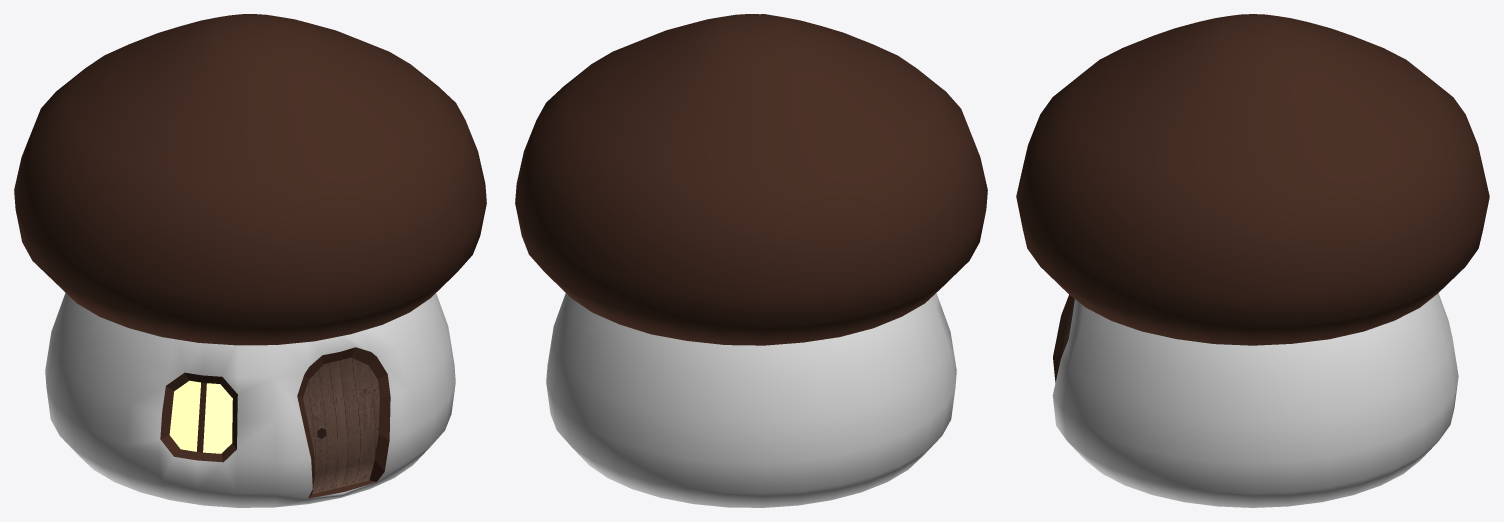
Rendered from brownSmallMushroomHouse.glb.
3 views of the same model, side by side, from view 1: azimuth 30°, elevation 25°; view 2: azimuth 150°, elevation 25°; view 3: azimuth 270°, elevation 25° (orthographic).
Parts seen in each view (by area): view 1: BrownSmallMushroomHouse; view 2: BrownSmallMushroomHouse; view 3: BrownSmallMushroomHouse.
Part boxes in pixels (x1,y1,x2,y2): BrownSmallMushroomHouse: (14, 14, 486, 507); BrownSmallMushroomHouse: (515, 14, 987, 507); BrownSmallMushroomHouse: (1016, 14, 1489, 507).
Size of what is drawn, in the model's own units: 3.61 by 3.37 by 3.61.
Materials: 3 (2 with a texture image).
